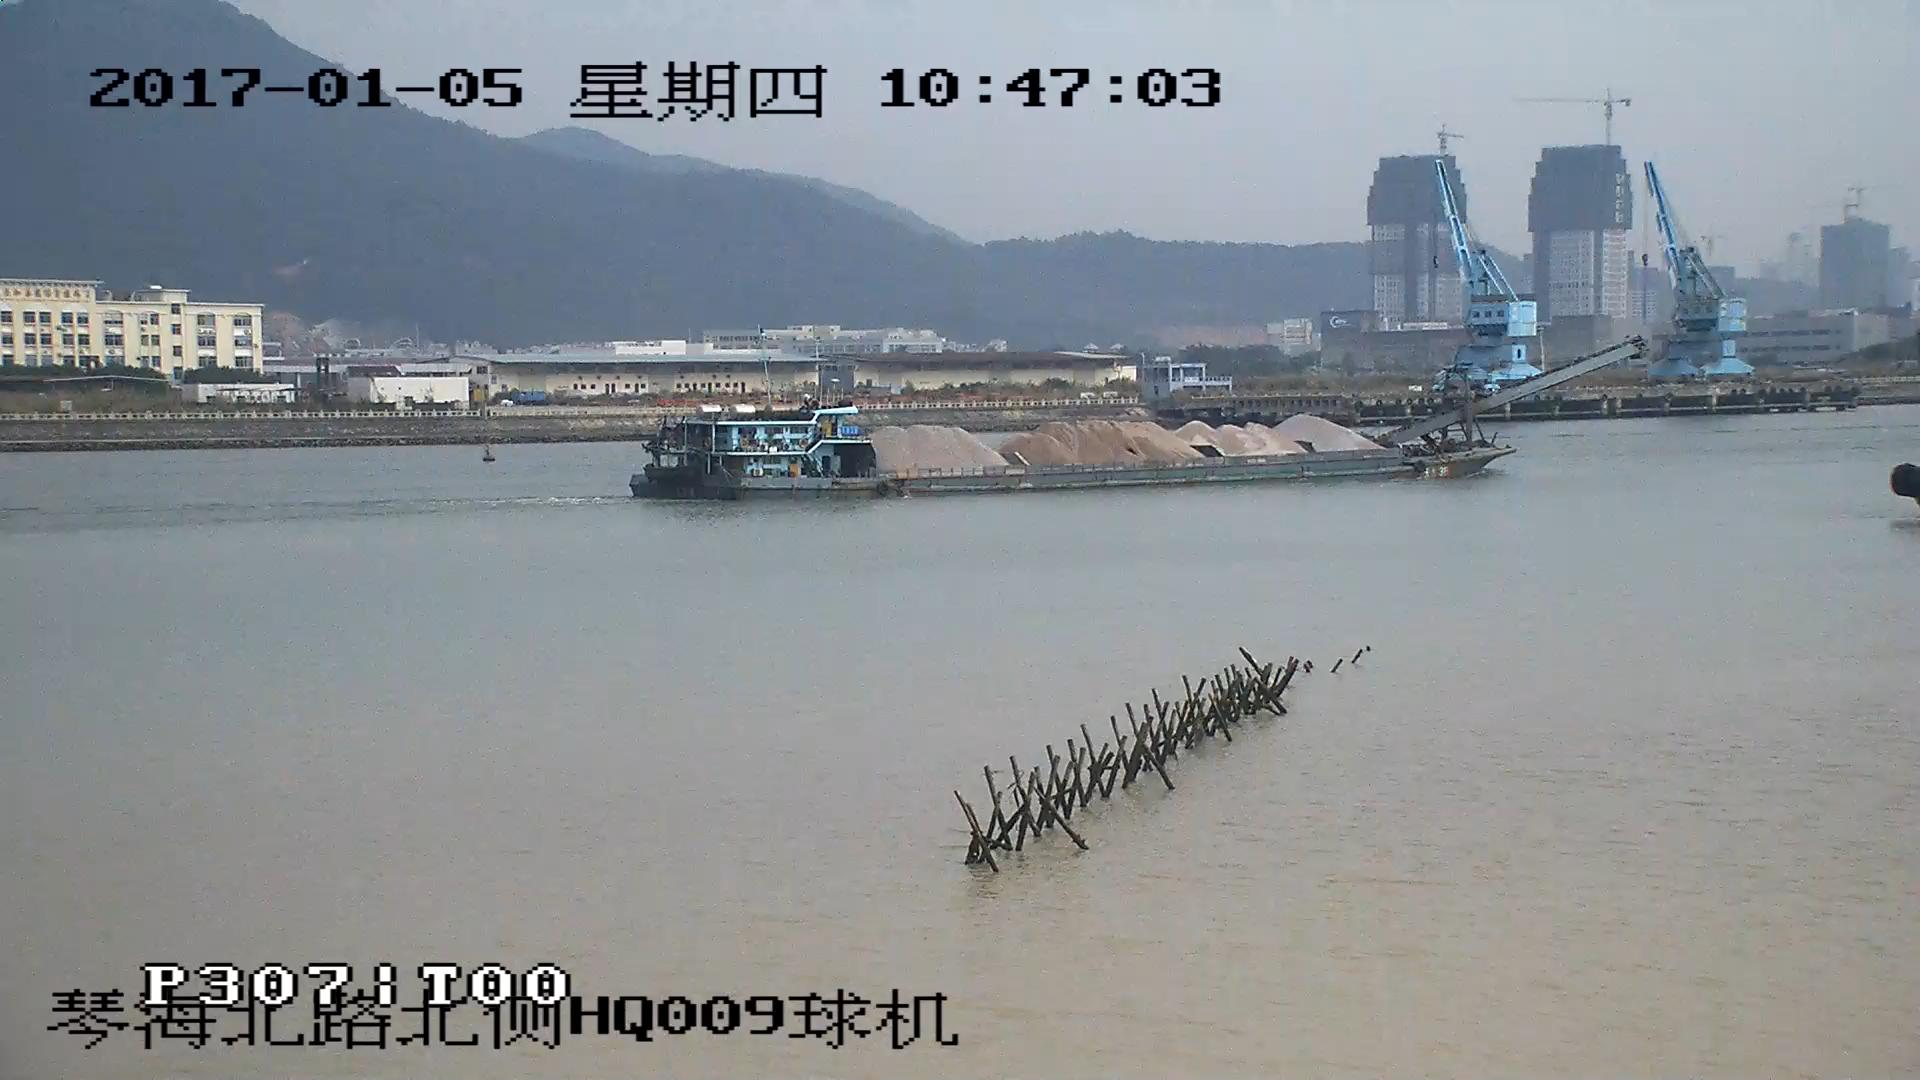ore carrier: (628, 338, 1638, 502)
